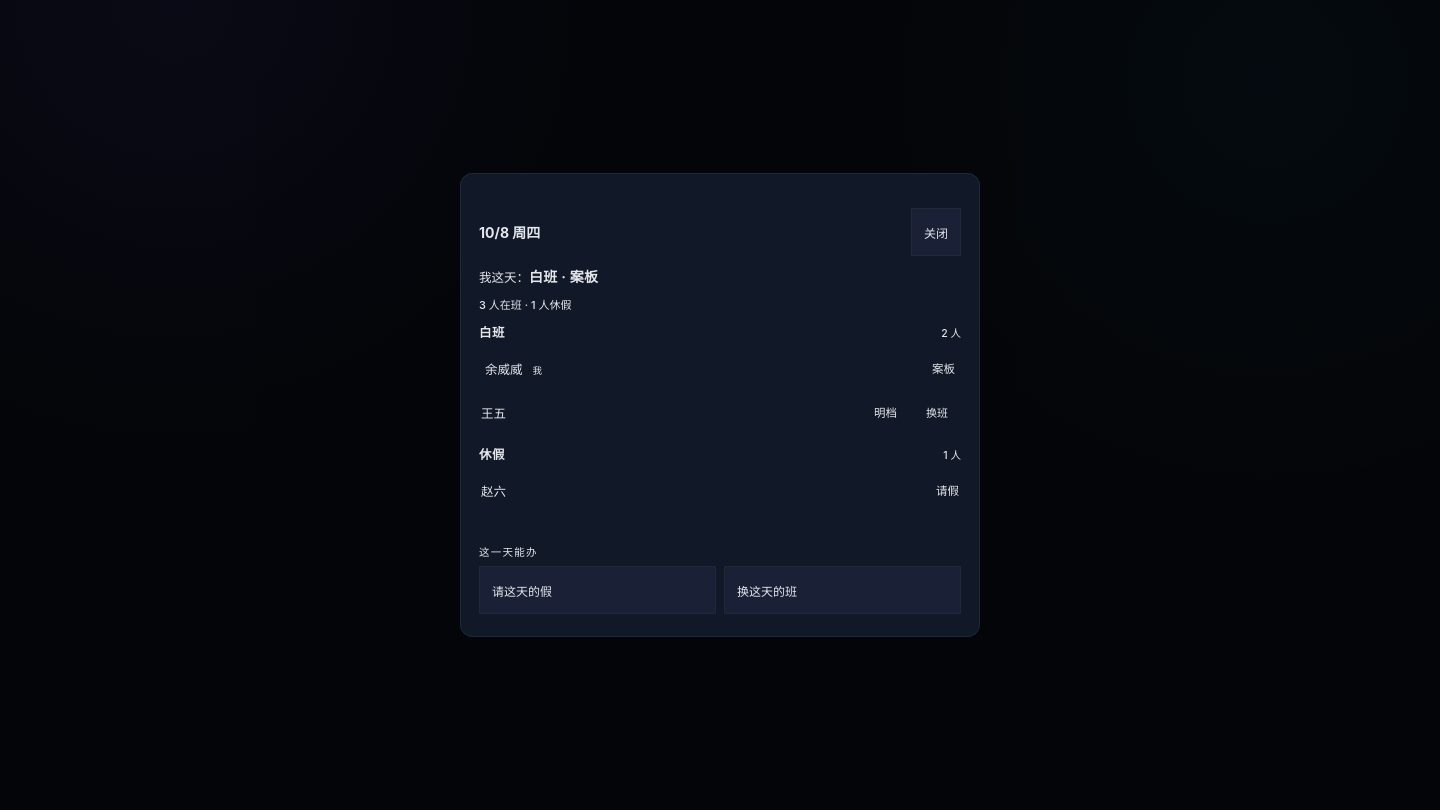
Test case: 某一天的操作单：点开一天就能把那天的事办掉（票 15） › 对方那天已经在跟别人换：弹一句说清是谁跟谁（2026-10-29 用户裁定）
The image size is (1440, 810).
What coordinates should you click on to do the following:
click the button "换这天的班"
I would click on:
 (842, 590)
Its box is [724, 566, 961, 614].
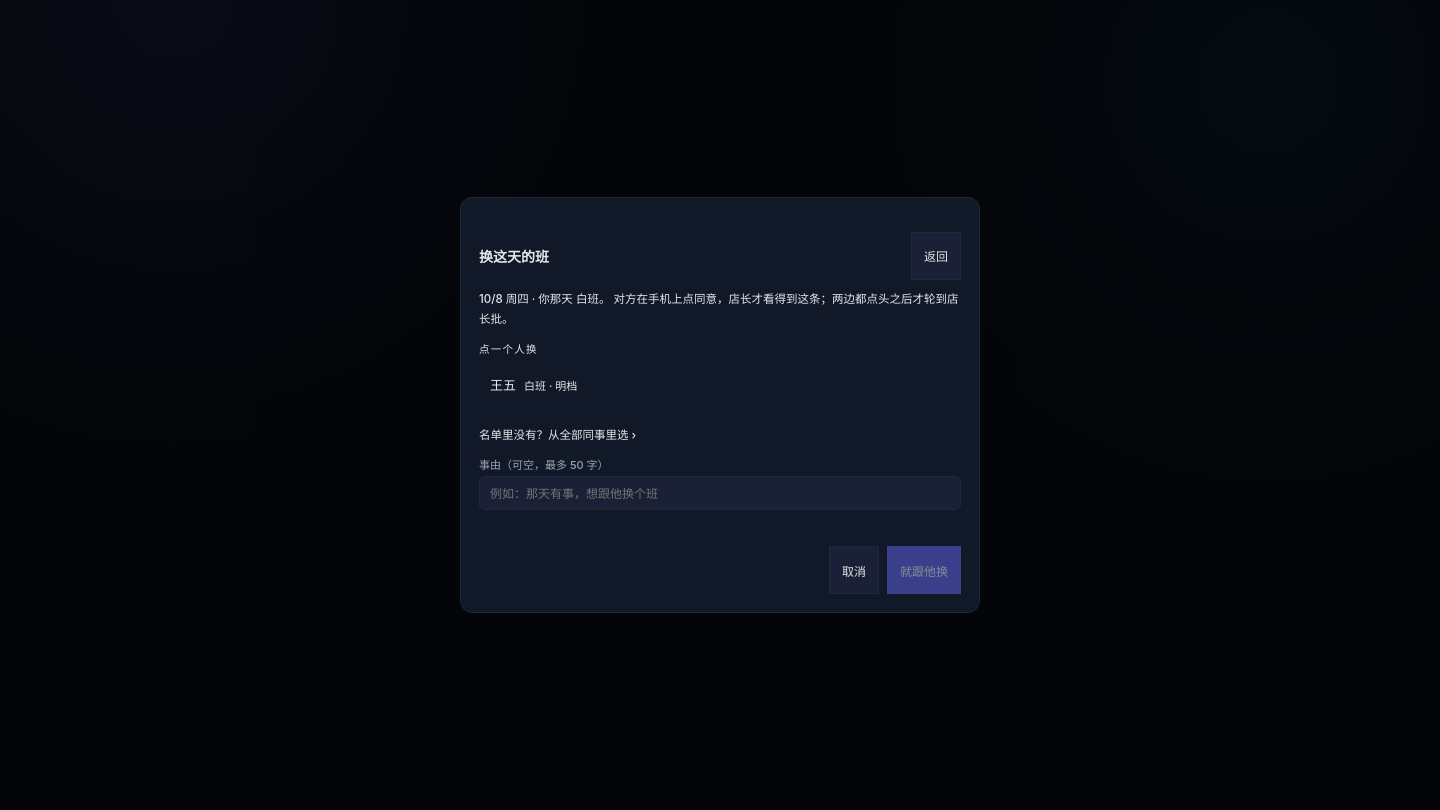
What coordinates should you click on to do the following:
click the button with class "ds-person"
I would click on:
 (551, 386)
Its box is [479, 366, 961, 412].
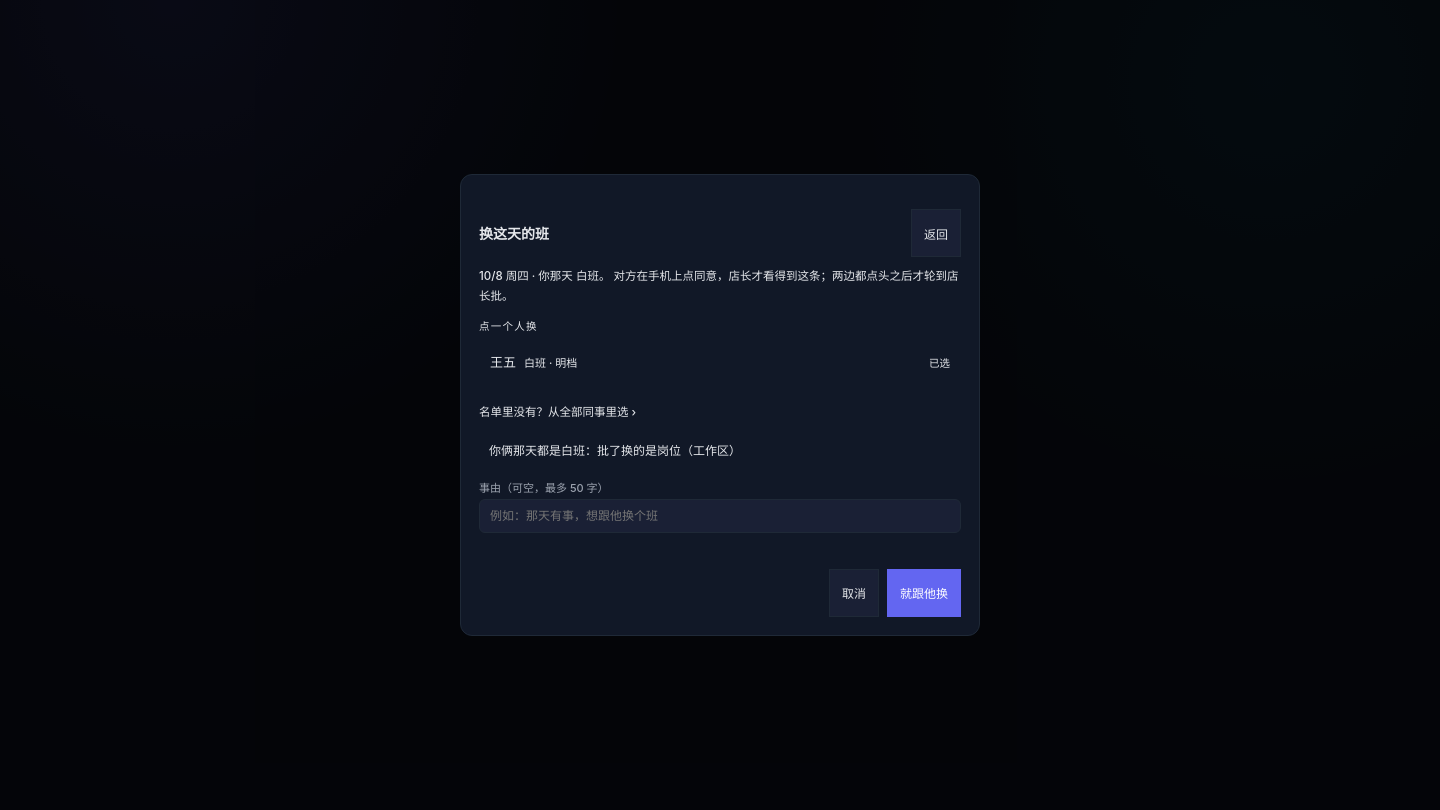
What coordinates should you click on to do the following:
click the button "就跟他换"
I would click on:
 (924, 593)
Its box is [887, 569, 961, 617].
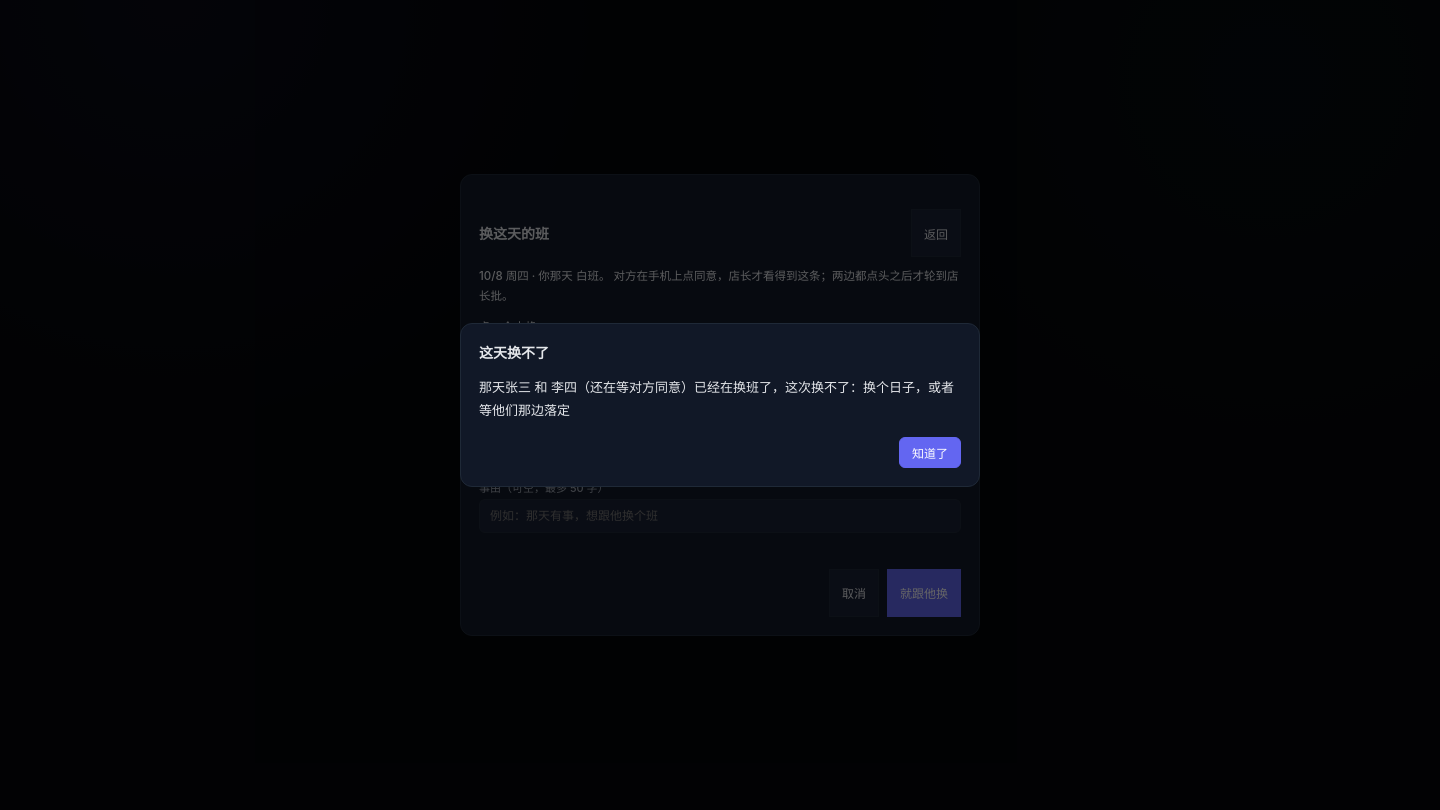
Check: the dialog is shown
Check: the dialog shows "这天换不了", box [479, 344, 549, 361]
Check: the dialog shows "张三 和 李四（还在等对方同意）", box [479, 379, 954, 418]
# 关掉之后仍停在换班屏：换个人 / 换个日子还能提。
What coordinates should you click on to do the following:
click the button "知道了"
I would click on:
 (930, 452)
Its box is [899, 437, 961, 468].
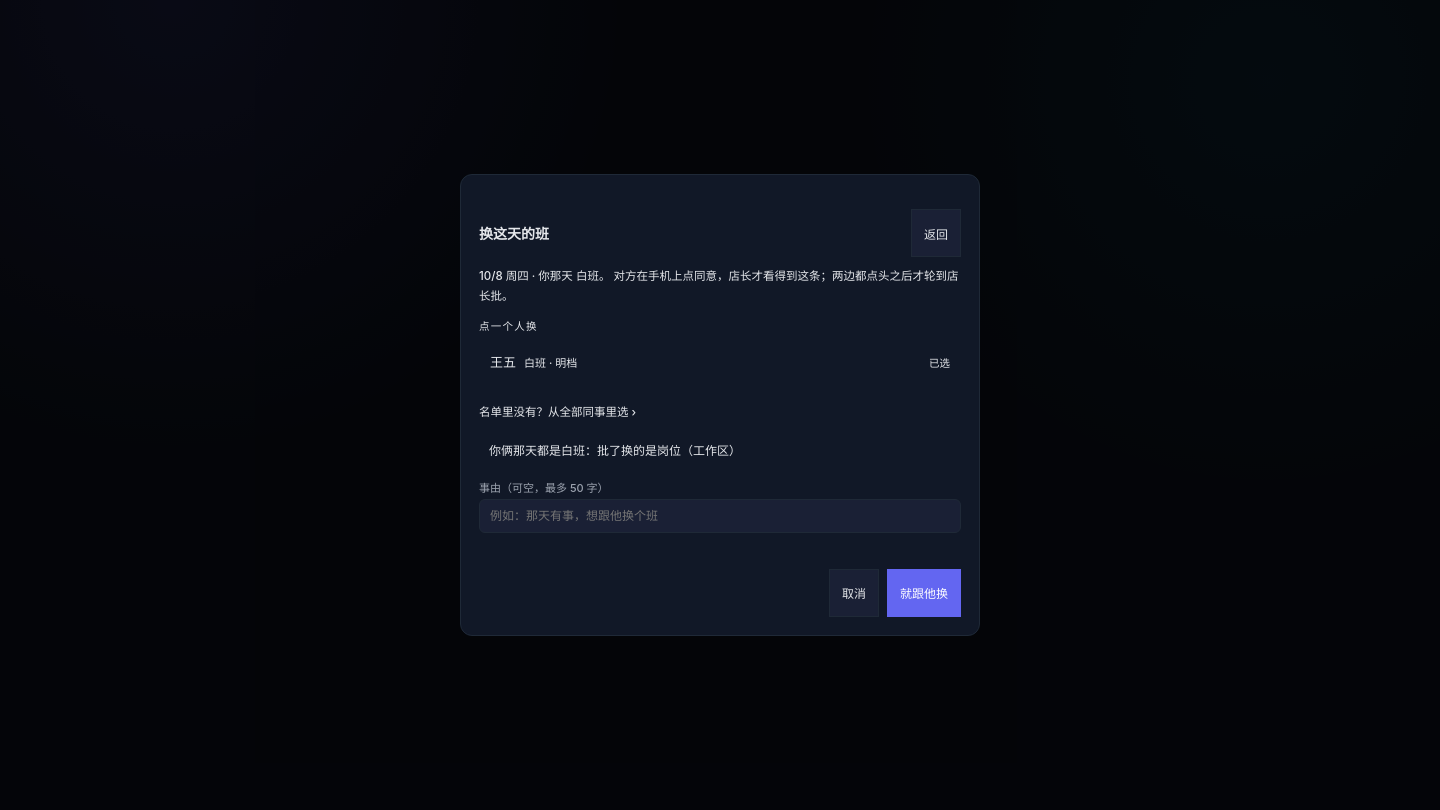
Check: the button "就跟他换" is shown, box [887, 569, 961, 617]
Check: the dialog is gone
